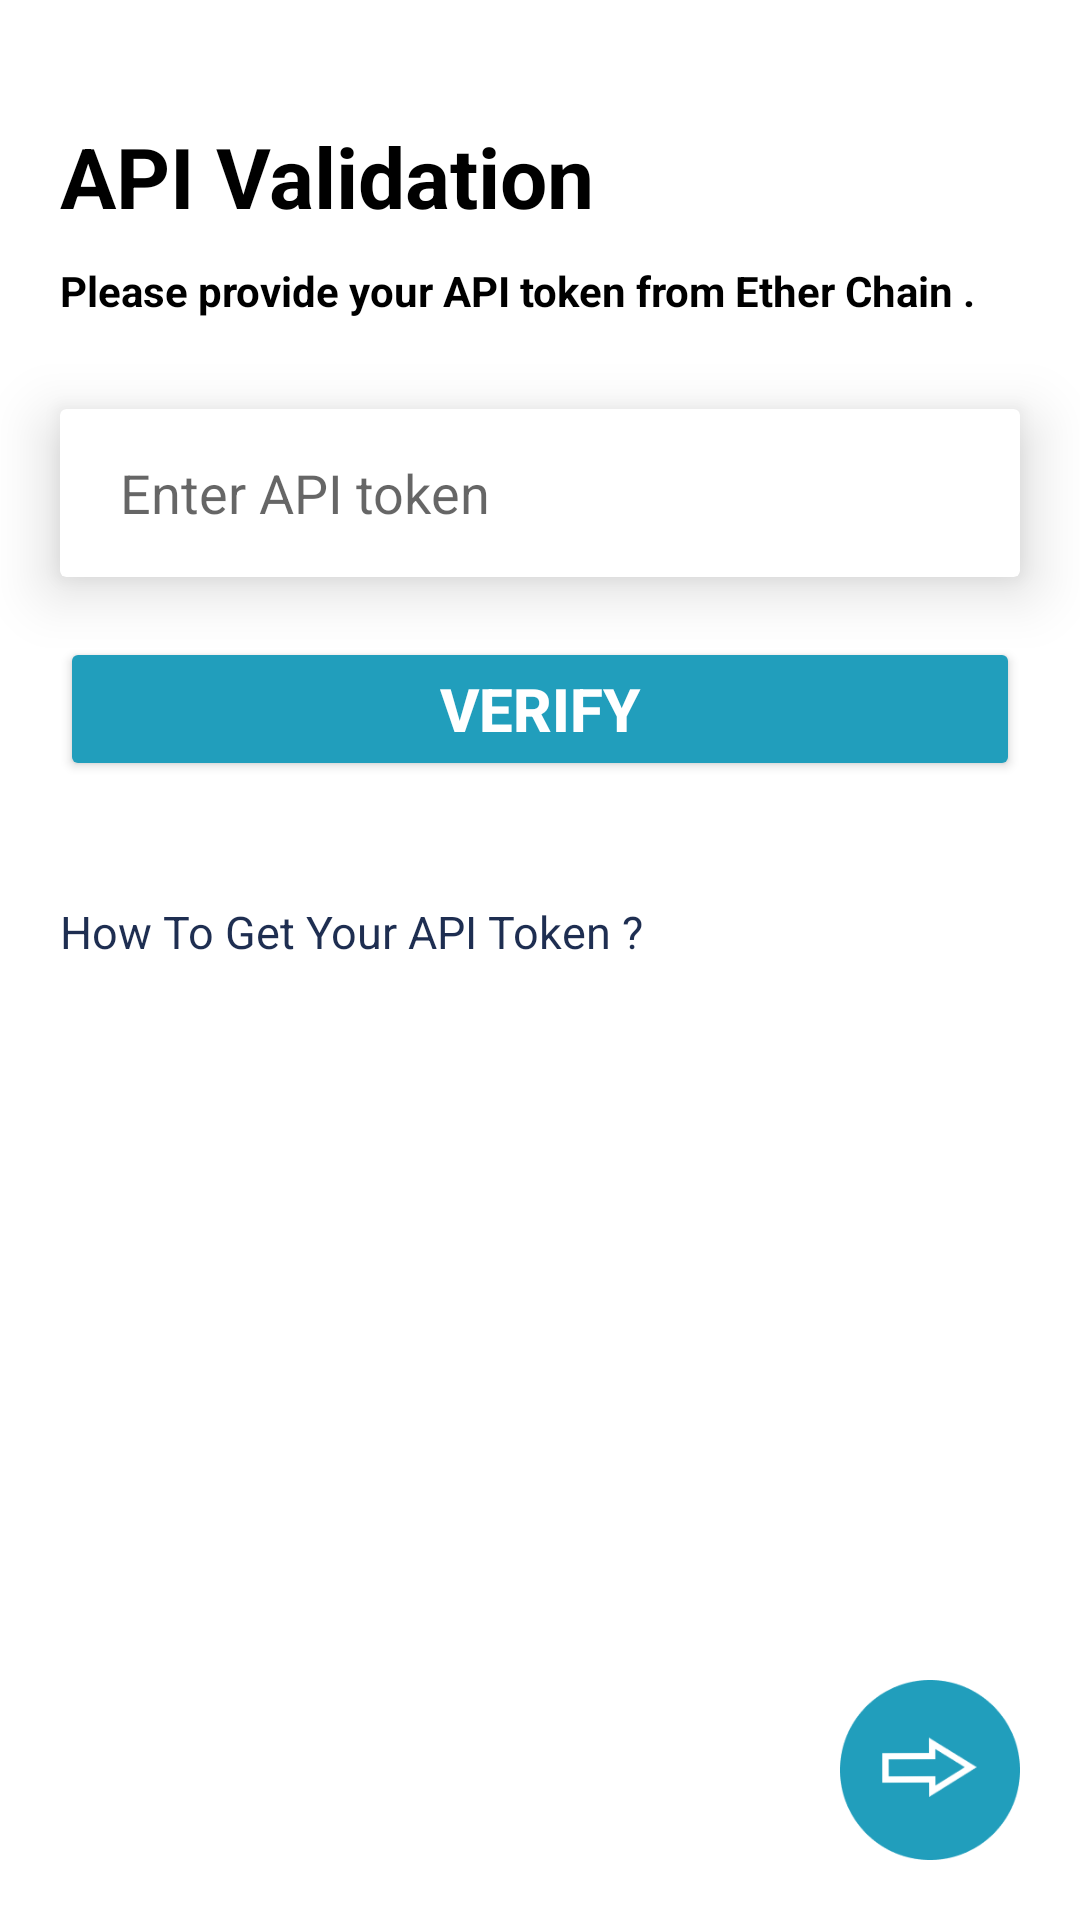

Where to tap for icons on this 1080px x 1920px app screen, as [x,y]:
next: [930,1770]
